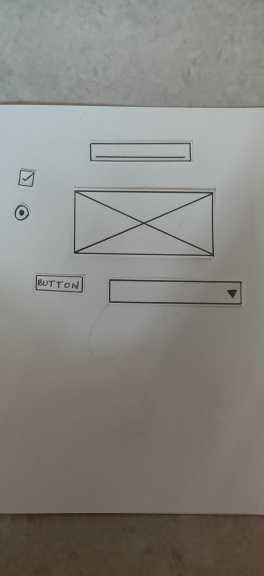button: (32, 272, 87, 296)
checkbox: (13, 164, 40, 191)
dropdown: (105, 274, 246, 311)
img: (68, 185, 219, 261)
radio: (11, 202, 32, 224)
text: (86, 138, 195, 166)
